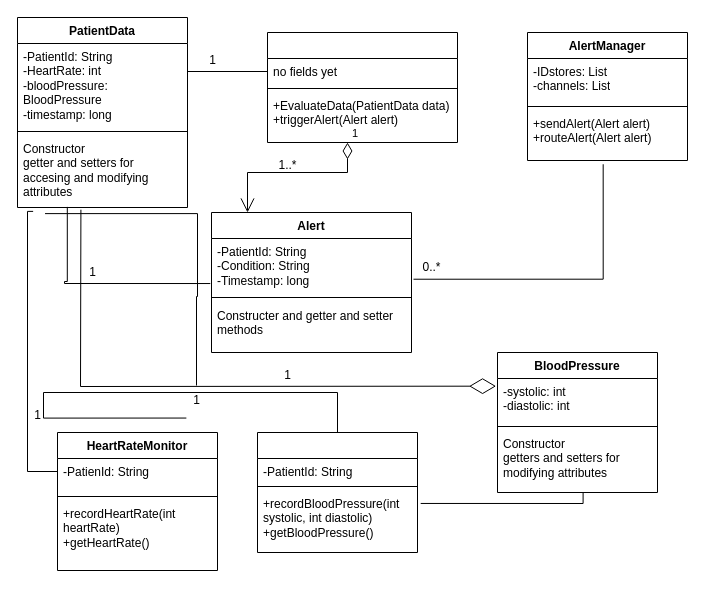
Image size: 705x591. Some labels were removed from this diagram. Each missing label, with the box of its shape:
AlertGenerator: (266, 32, 458, 142)
BloodPressureMeasurer: (256, 432, 418, 552)
